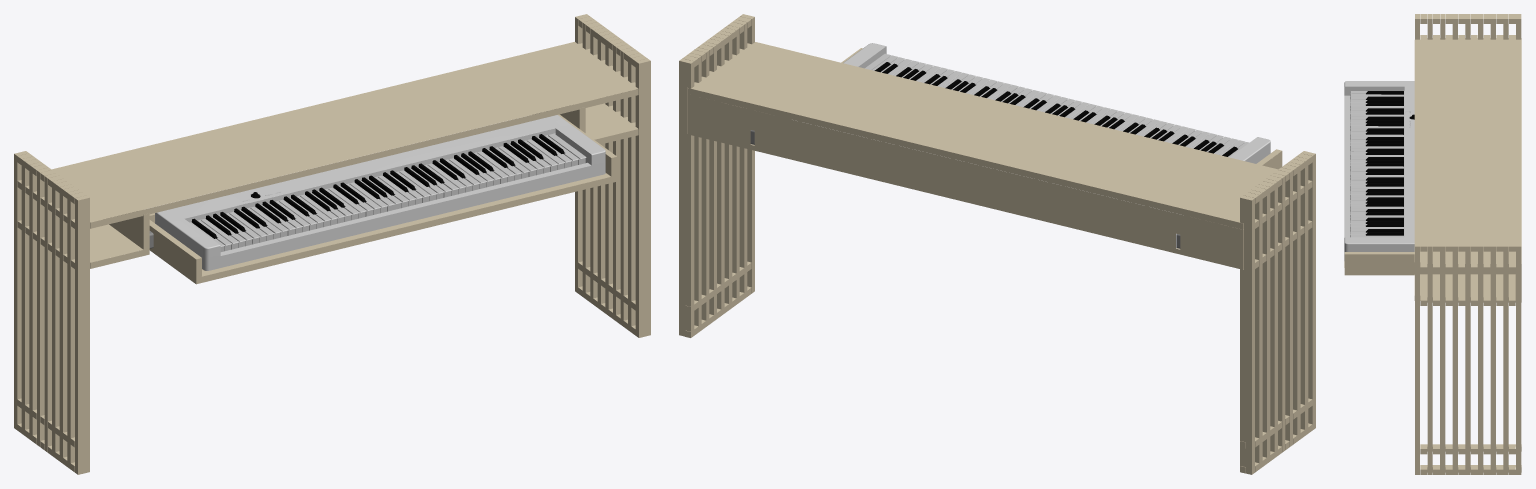
The model's file is site-assets-239A.glb.
The picture shows the model from 3 angles, left to right: view 1: azimuth 30°, elevation 25°; view 2: azimuth 150°, elevation 25°; view 3: azimuth 270°, elevation 25°; orthographic projection. The views are drawn at different scales.
Parts seen in each view (by area): view 1: Layer 02, base1, sharp37, key115; view 2: Layer 02, sharp37, key115, base1; view 3: Layer 02, sharp37, base1, key115.
Part boxes in pixels (<box>): Layer 02: <box>14,14,650,474</box>; base1: <box>155,115,605,270</box>; sharp37: <box>191,134,564,238</box>; key115: <box>211,137,571,247</box>; Layer 02: <box>679,14,1315,474</box>; sharp37: <box>874,62,1237,156</box>; key115: <box>881,57,1231,151</box>; base1: <box>843,43,1270,163</box>; Layer 02: <box>1344,14,1521,474</box>; sharp37: <box>1366,91,1403,235</box>; base1: <box>1344,81,1414,260</box>; key115: <box>1350,99,1367,235</box>.
Bounding box in the file's own units: 1.83 × 0.8382 × 0.5892.
